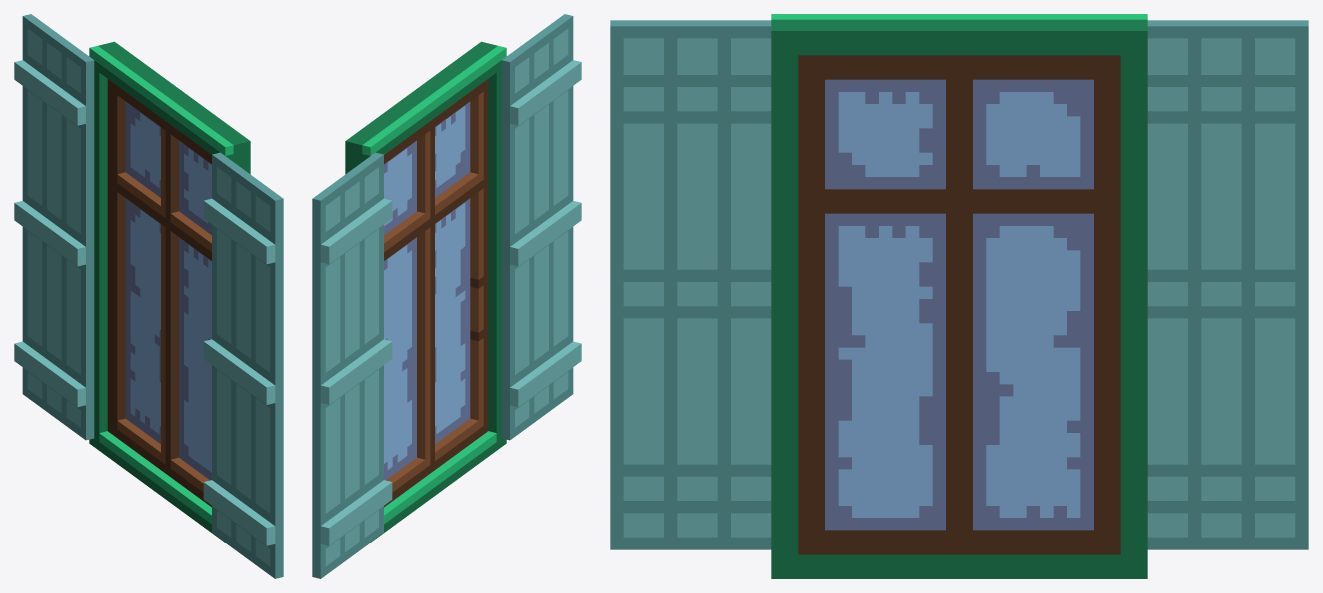
The model's file is window_textured_big_blue_green.glb.
The picture shows the model from 3 angles, left to right: view 1: azimuth 30°, elevation 25°; view 2: azimuth 150°, elevation 25°; view 3: azimuth 270°, elevation 25°; orthographic projection. The views are drawn at different scales.
Parts seen in each view (by area): view 1: window_textured_big_blue_green; view 2: window_textured_big_blue_green; view 3: window_textured_big_blue_green.
Boxes of the visible parts, x1=… form: window_textured_big_blue_green: x1=14, y1=14, x2=283, y2=578; window_textured_big_blue_green: x1=312, y1=14, x2=581, y2=578; window_textured_big_blue_green: x1=610, y1=14, x2=1308, y2=578.
Size of the model in its own units: 0.5 by 4.5 by 5.2.
Materials: 1 (1 with a texture image).
